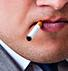smoke: (24, 19, 42, 40)
